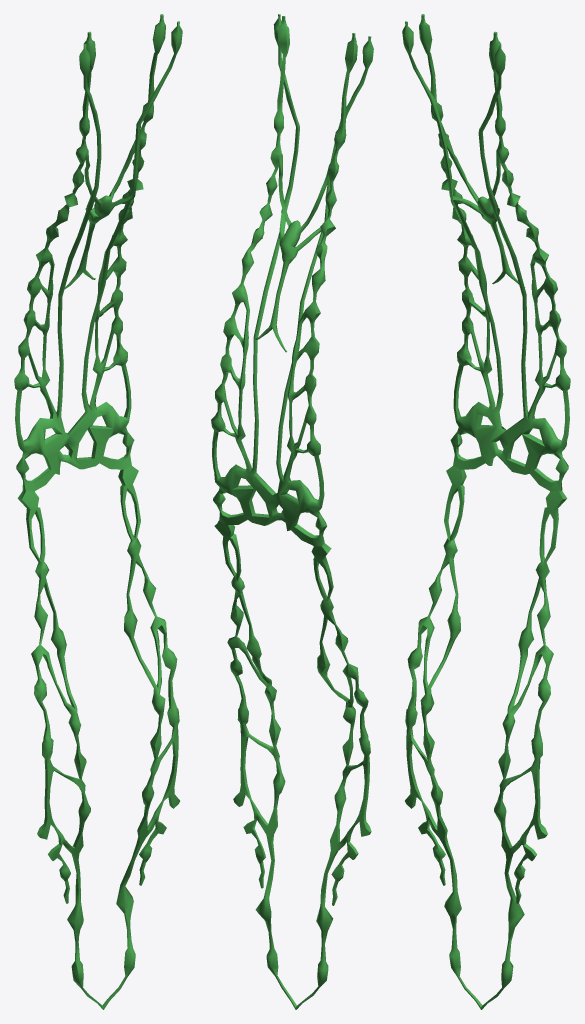
The model's file is Anatomy_Autonomic_Nervous_Sys.obj.
The picture shows the model from 3 angles, left to right: view 1: azimuth 30°, elevation 25°; view 2: azimuth 150°, elevation 25°; view 3: azimuth 330°, elevation 25°; orthographic projection. The views are drawn at different scales.
Visible parts, largest first — view 1: Autonomic_Nervous_Sys; view 2: Autonomic_Nervous_Sys; view 3: Autonomic_Nervous_Sys.
Part boxes in pixels (<box>): Autonomic_Nervous_Sys: <box>14,14,182,1009</box>; Autonomic_Nervous_Sys: <box>211,14,373,1009</box>; Autonomic_Nervous_Sys: <box>402,14,570,1009</box>.
Size of the model in its own units: 11.41 by 76.28 by 8.98.
